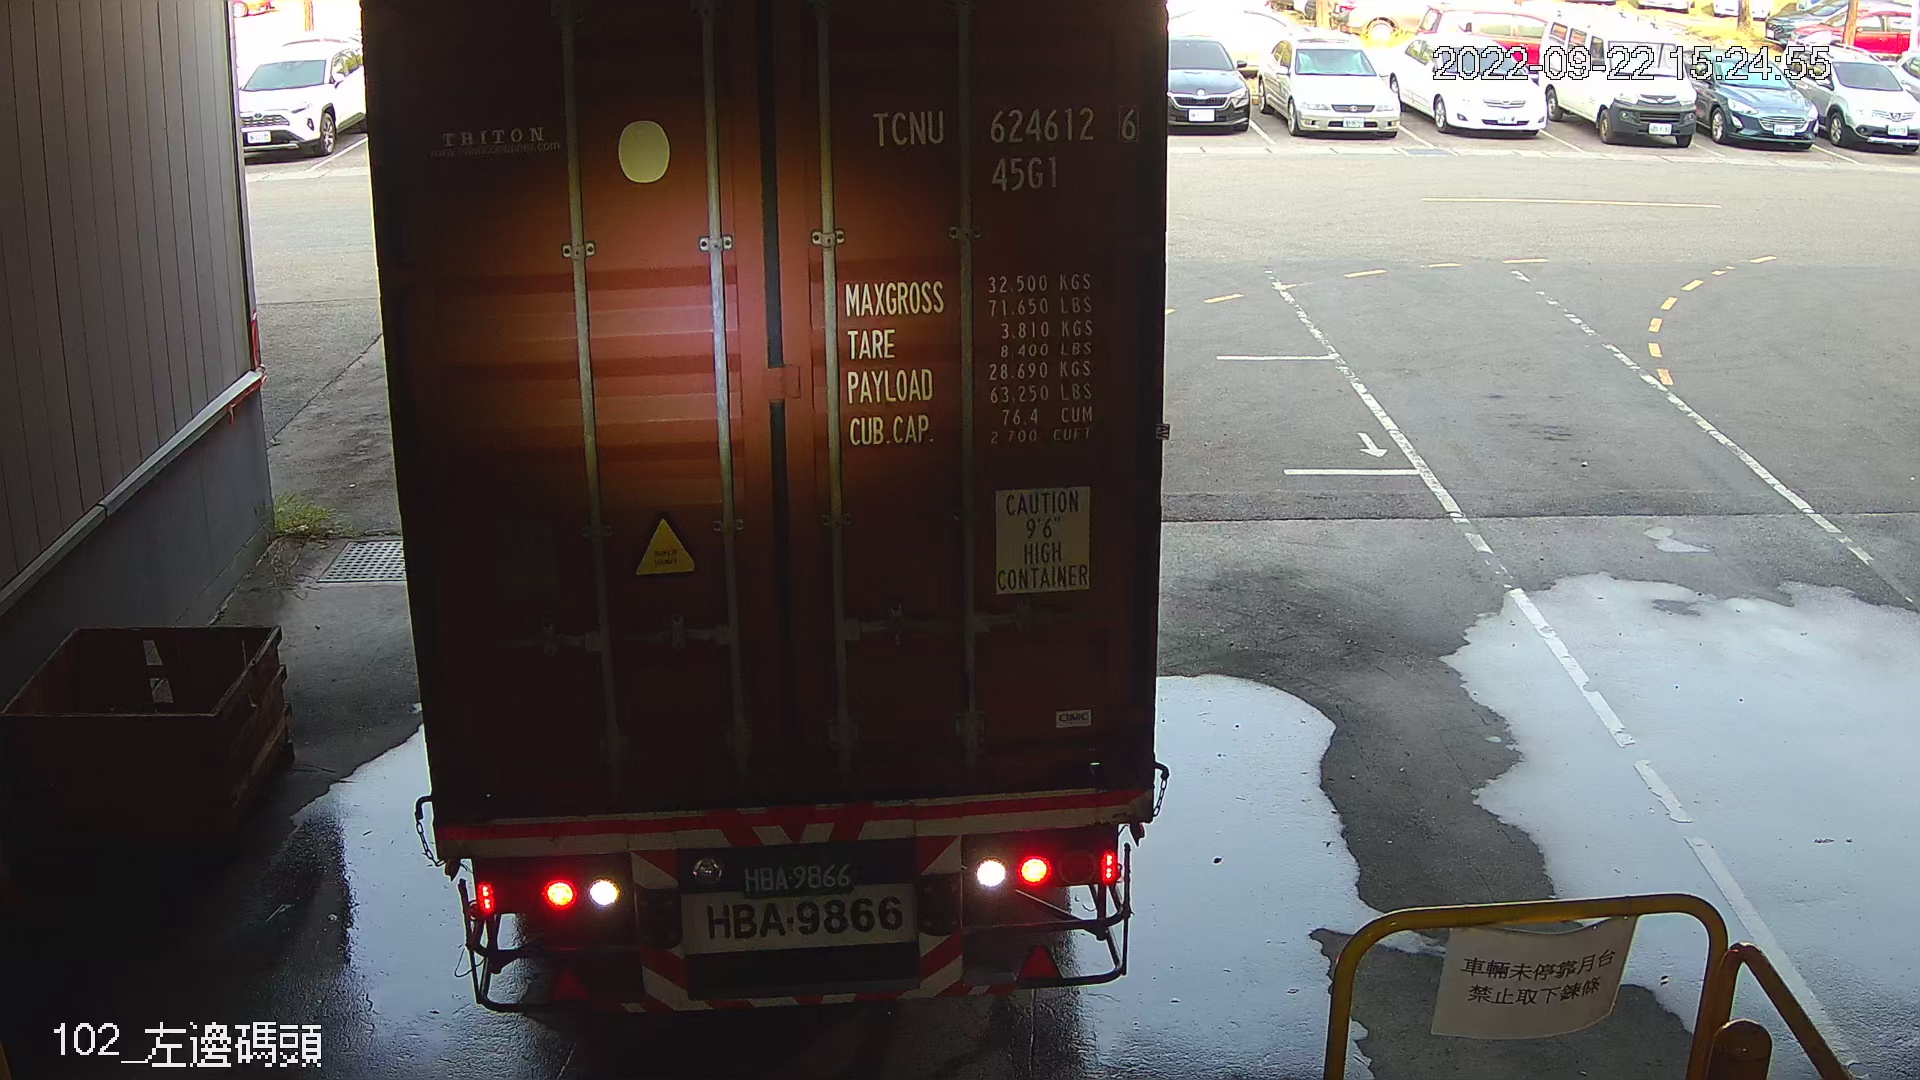container: (847, 88, 1150, 198)
